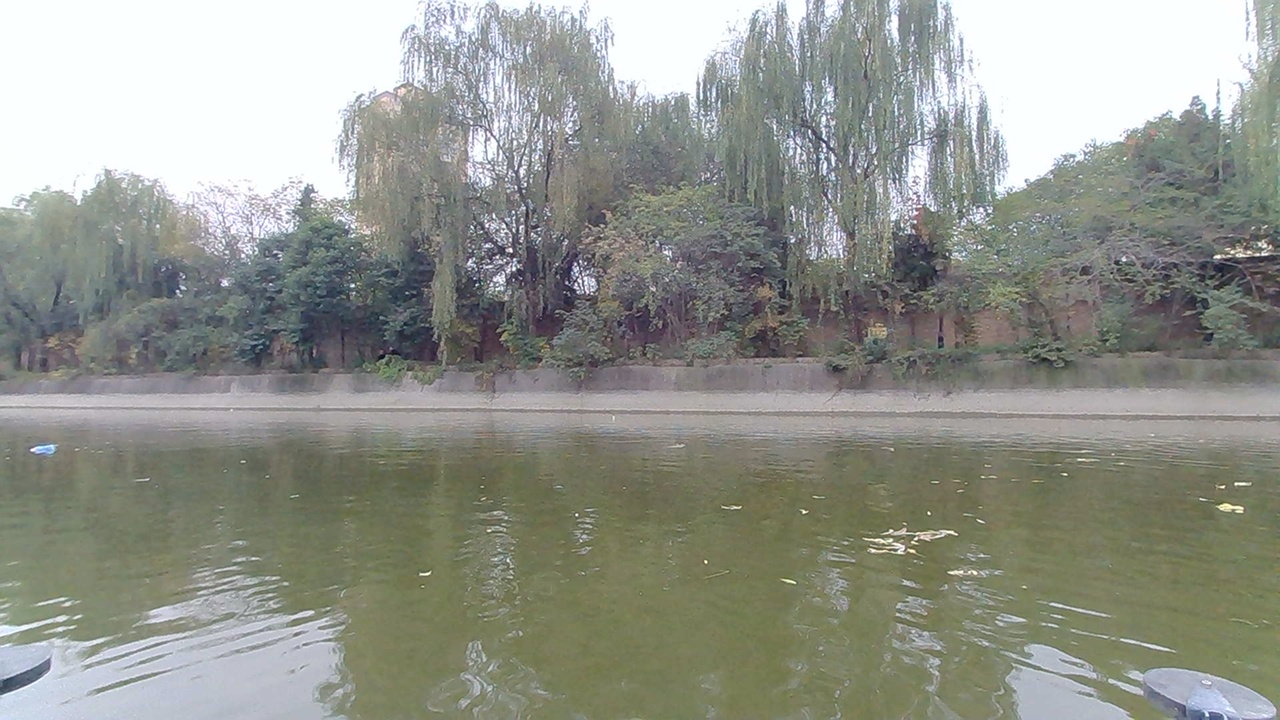bottle: (29, 439, 62, 463)
